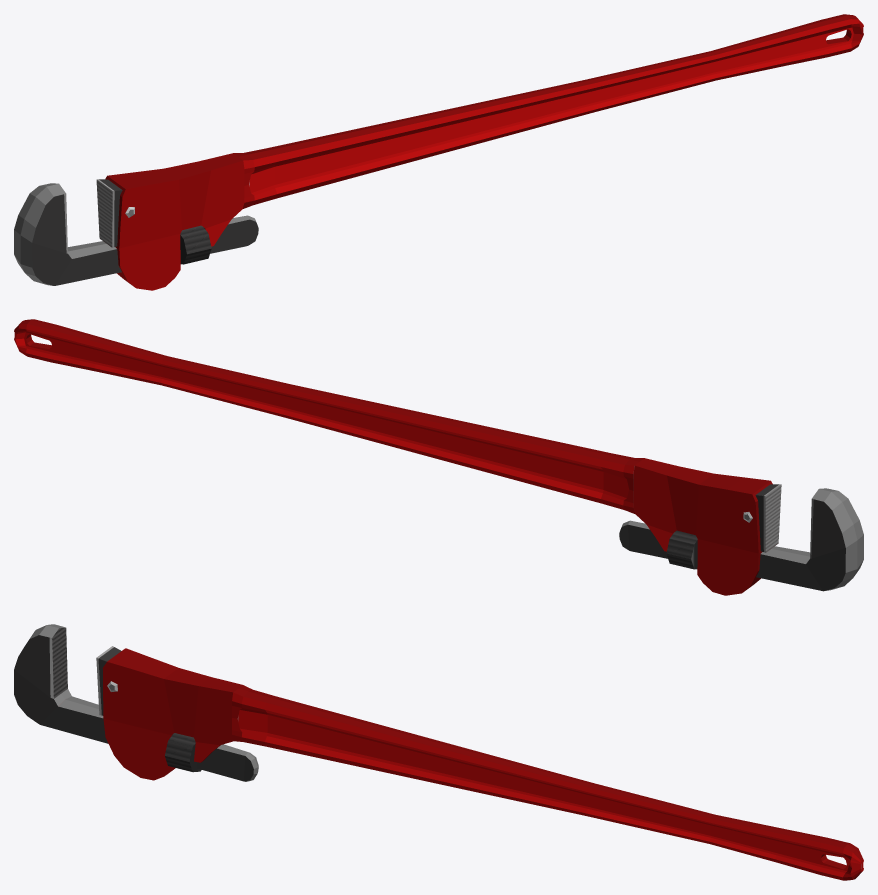
Rendered from IndustrialPipeWrench.fbx.
3 renders of one model, top to bottom at view 1: azimuth 30°, elevation 25°; view 2: azimuth 150°, elevation 25°; view 3: azimuth 330°, elevation 25°, orthographic.
Parts seen in each view (by area): view 1: ZomboidIndustrialPipeWrench; view 2: ZomboidIndustrialPipeWrench; view 3: ZomboidIndustrialPipeWrench.
Part boxes in pixels (x1,y1,x2,y2): ZomboidIndustrialPipeWrench: [14, 14, 863, 290]; ZomboidIndustrialPipeWrench: [14, 319, 863, 595]; ZomboidIndustrialPipeWrench: [14, 624, 863, 880].
Size of the model in its own units: 0.7795 by 0.1098 by 0.0354.
